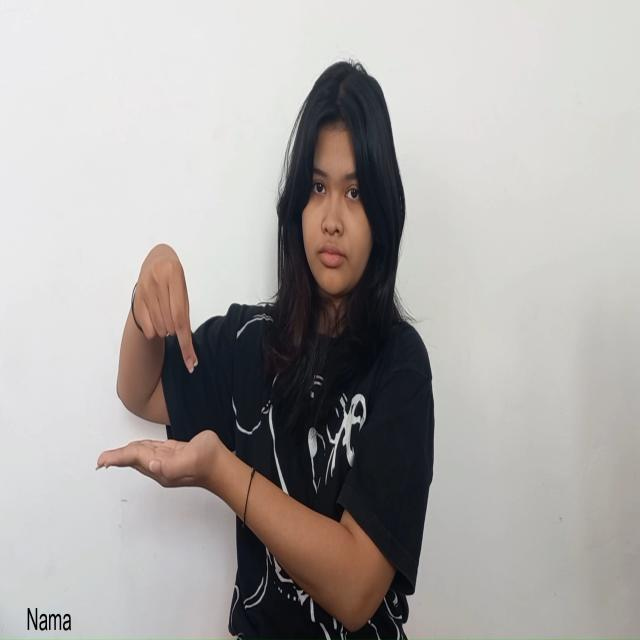Nama -BISINDO-: (95, 241, 220, 492)
